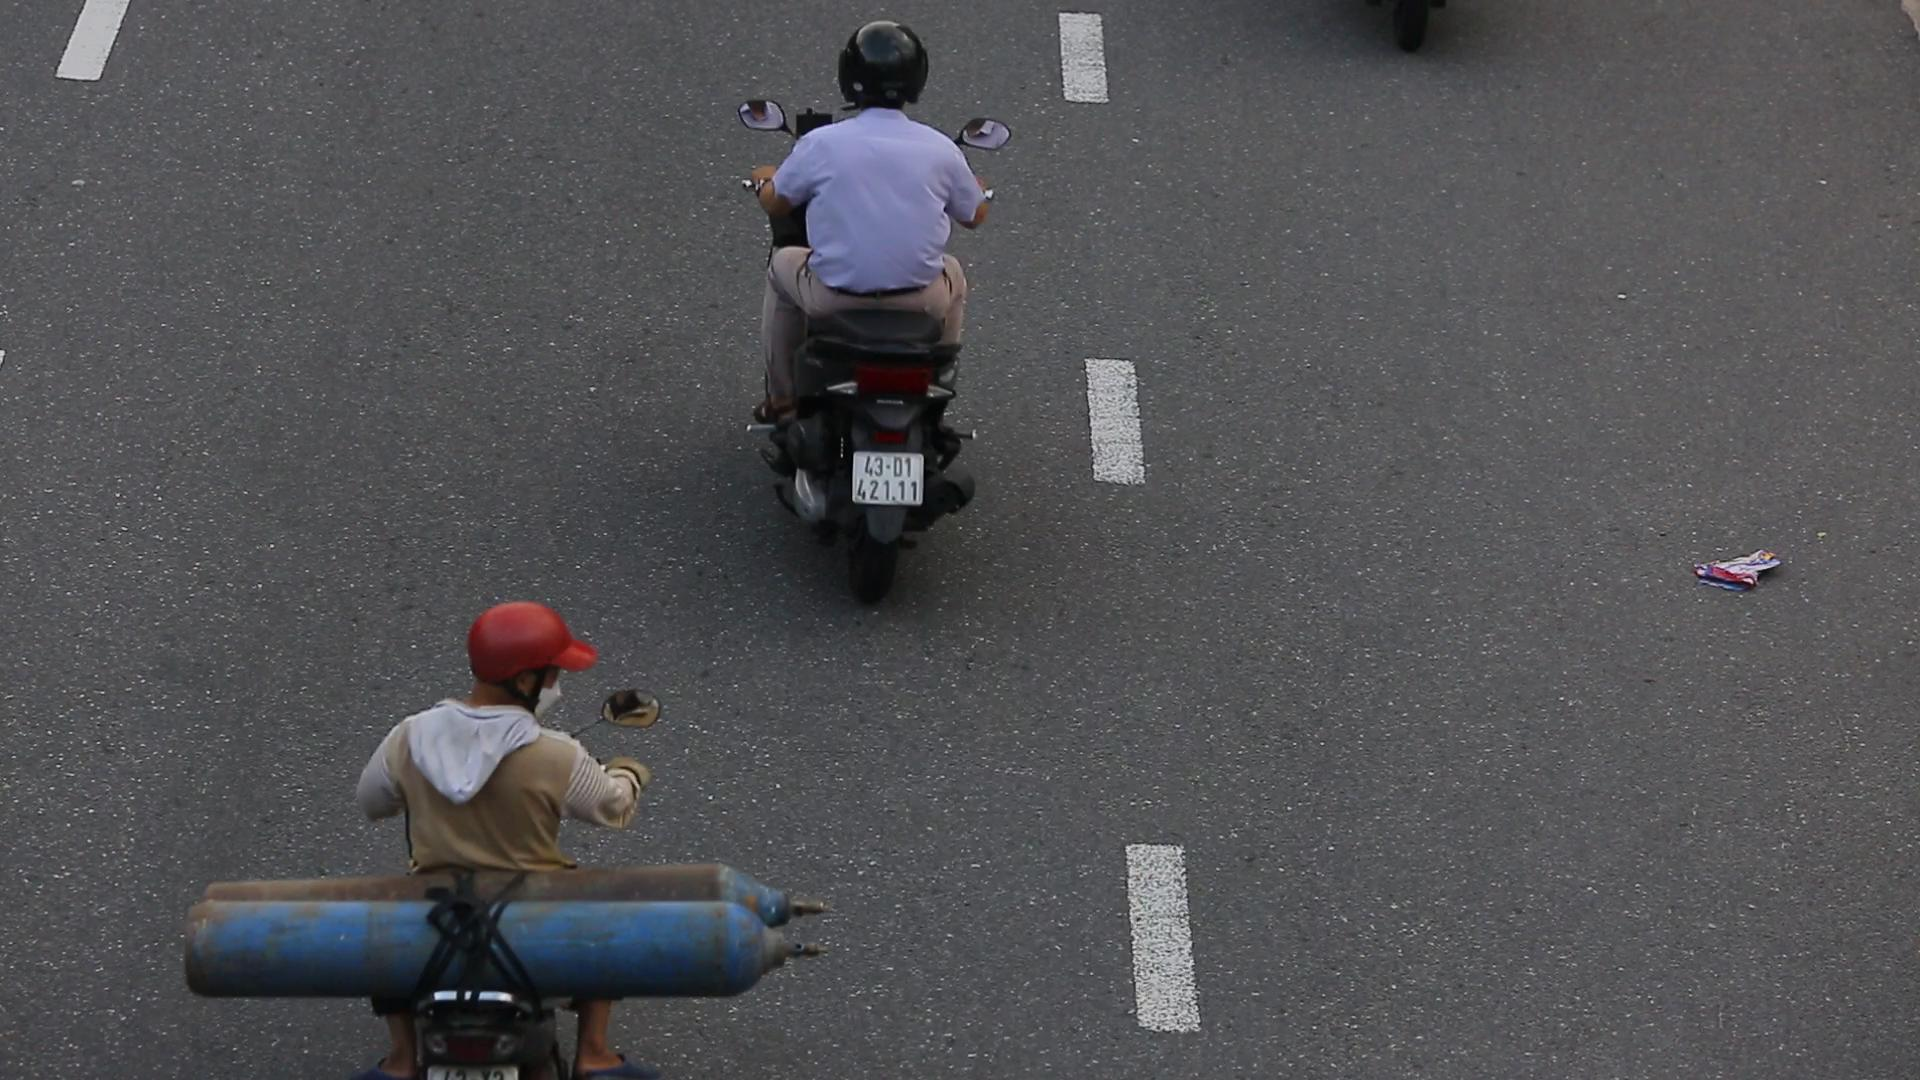motobike: (720, 16, 1015, 621)
